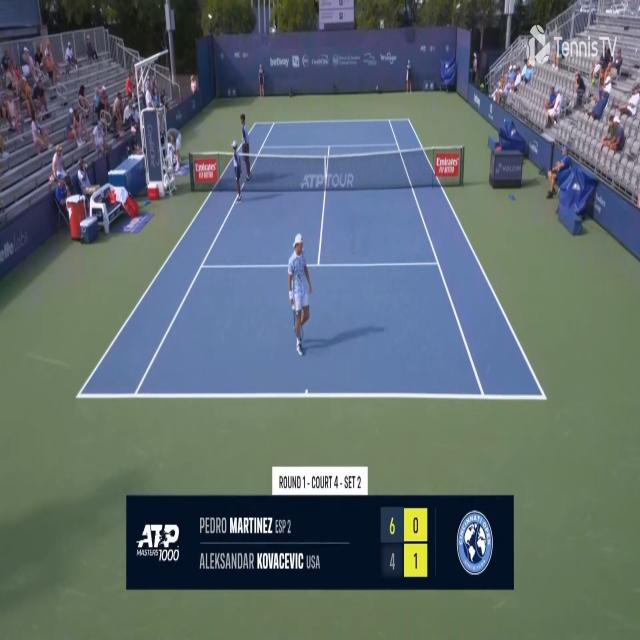tennis-player: (286, 232, 314, 360)
